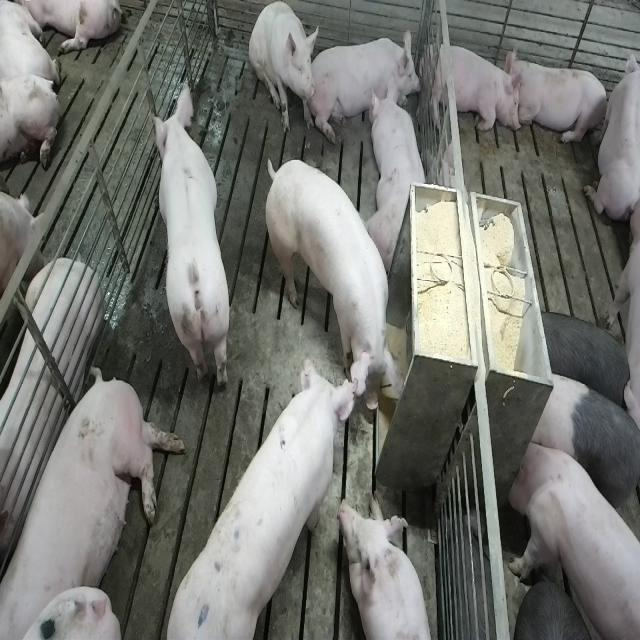Lateral_lying: (5, 362, 187, 636), (0, 229, 103, 572)
Sitting: (249, 2, 318, 136)
Standing: (163, 356, 359, 635), (263, 161, 401, 416), (504, 435, 638, 640), (150, 81, 232, 395), (529, 372, 639, 530), (531, 304, 628, 410)
Sternal_lying: (343, 494, 437, 640), (313, 25, 422, 139), (370, 85, 430, 273), (584, 41, 638, 224), (510, 52, 610, 149), (426, 37, 522, 138)
